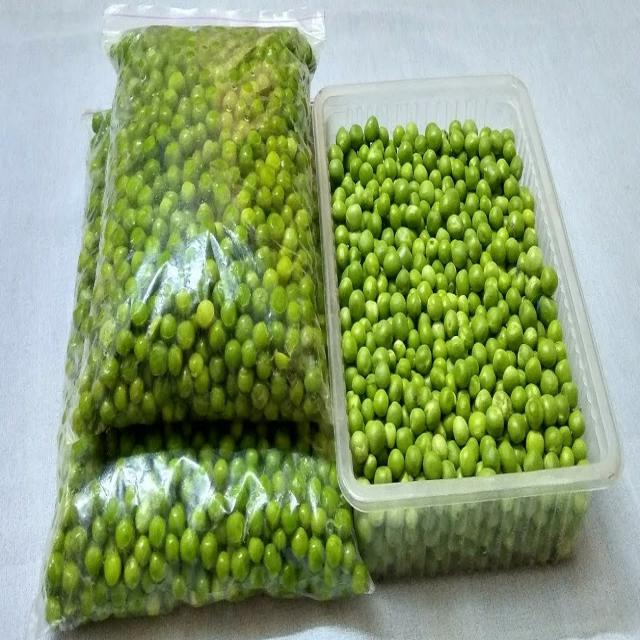pea: (336, 123, 571, 474)
